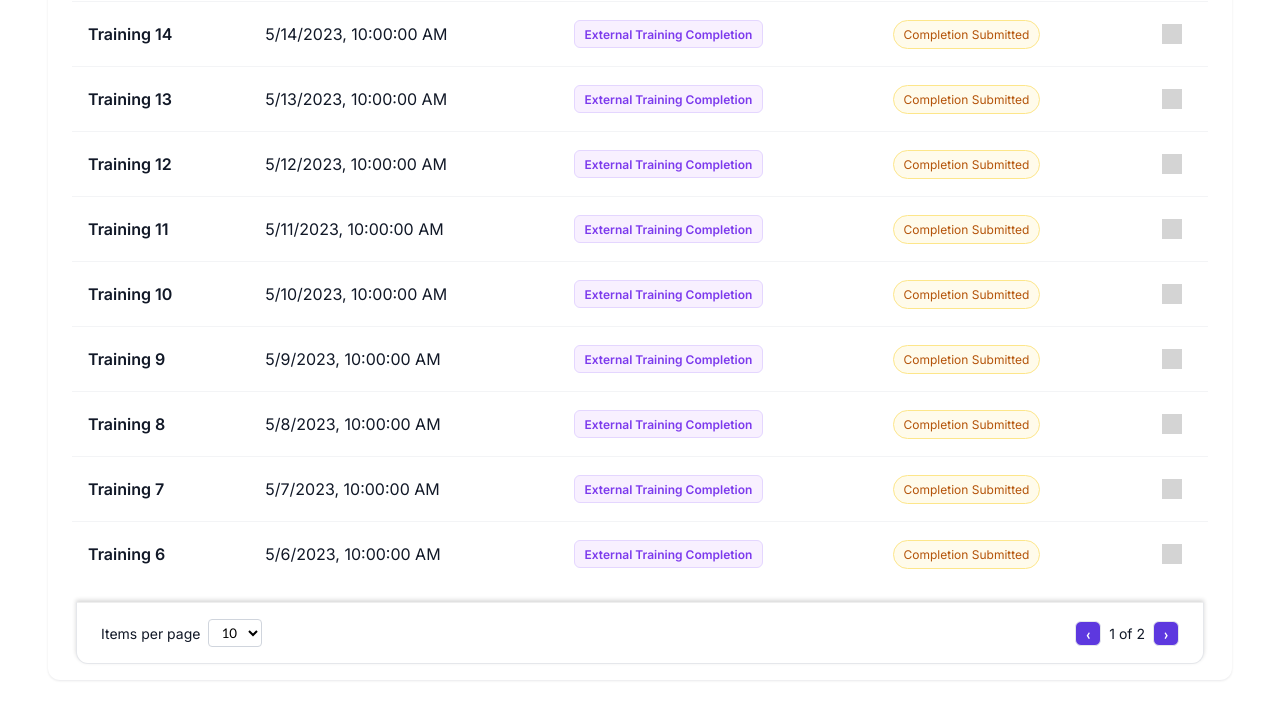
it: MySubmissions › handles pagination correctly
The width and height of the screenshot is (1280, 720).
(page scrolled)
Check: the text "Training 6" is shown, box [88,544,165,564]
Check: the text "Training 5" is not shown
Note: Go to next page
Click the button named "Next page": (1166, 633) [1153,620,1179,646]
(page scrolled)
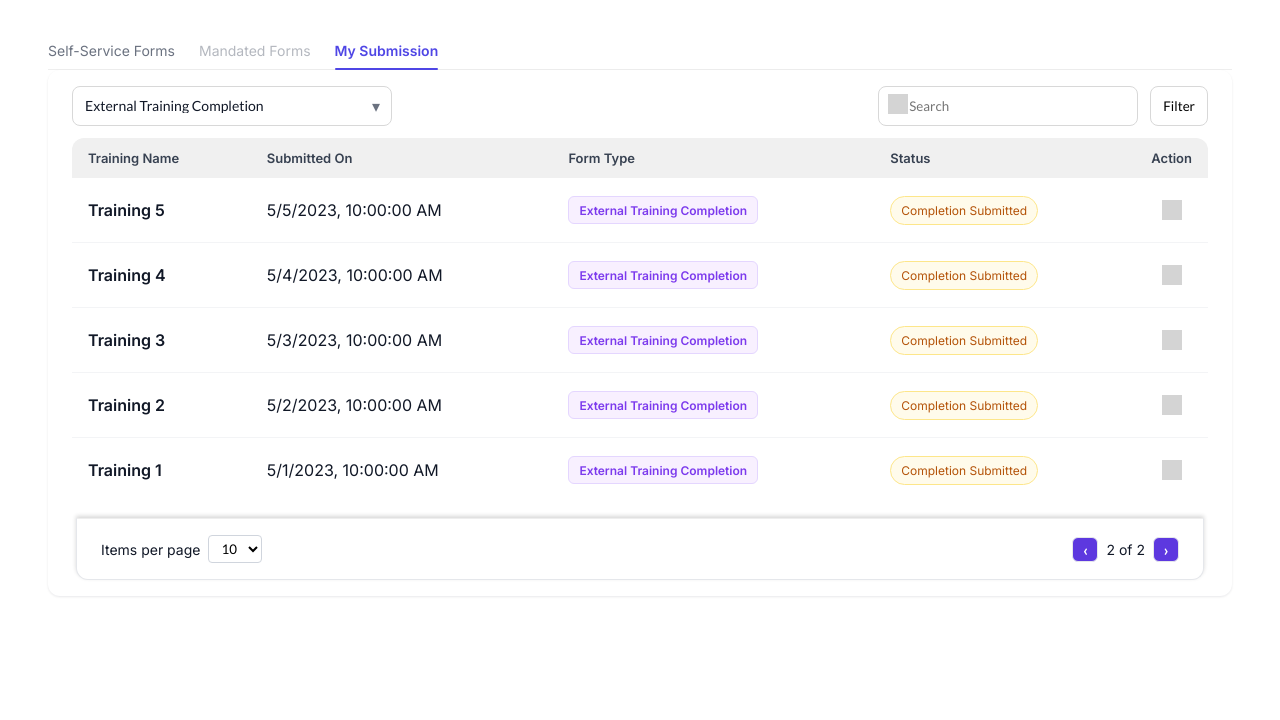
Check: the text "Training 15" is not shown
Check: the text "Training 5" is shown, box [88,200,165,220]
Note: Go back to previous page
Click the button named "Previous page": (1086, 549) [1072,536,1098,562]
(page scrolled)
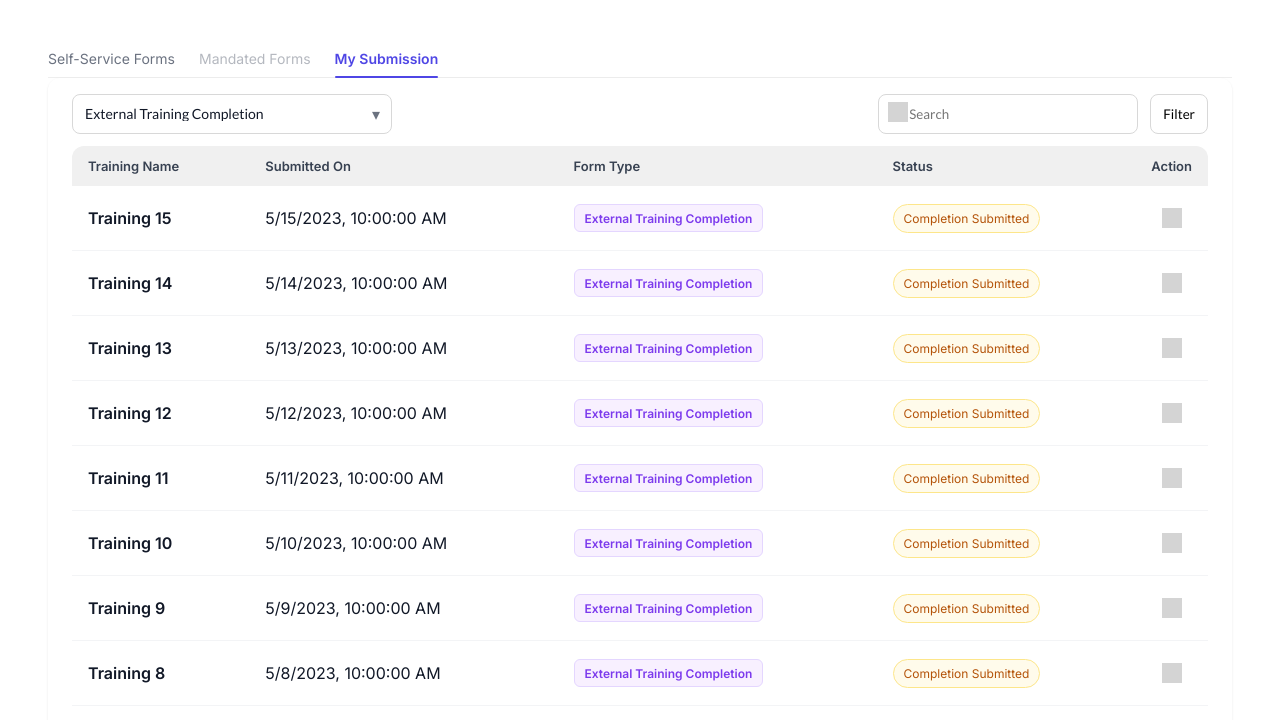
Check: the text "Training 15" is shown, box [88,208,172,228]
Check: the text "Training 5" is gone
